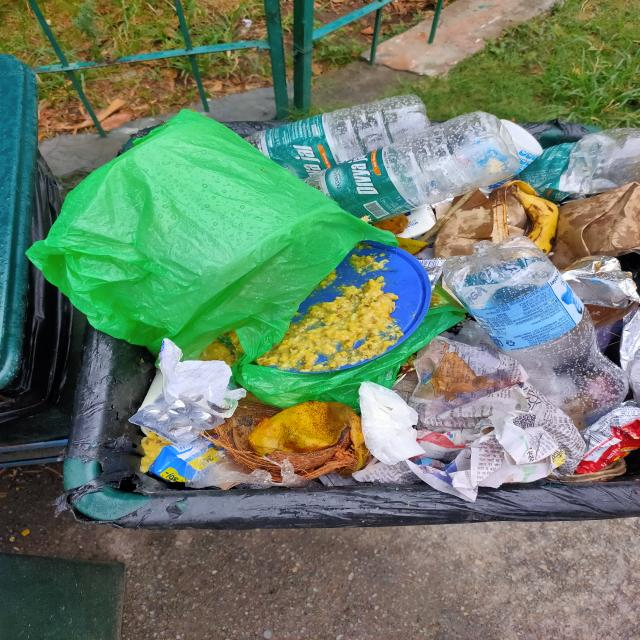B3: (26, 130, 294, 328), (245, 94, 516, 214), (442, 236, 628, 400), (444, 402, 560, 476), (541, 128, 635, 194), (364, 381, 416, 460), (580, 407, 636, 472), (136, 396, 214, 441), (166, 342, 226, 388), (145, 447, 210, 482)
